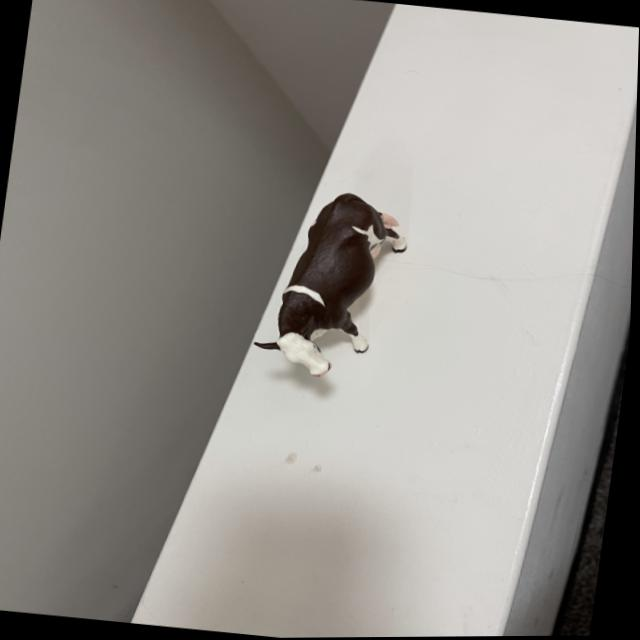cow: (253, 181, 418, 389)
